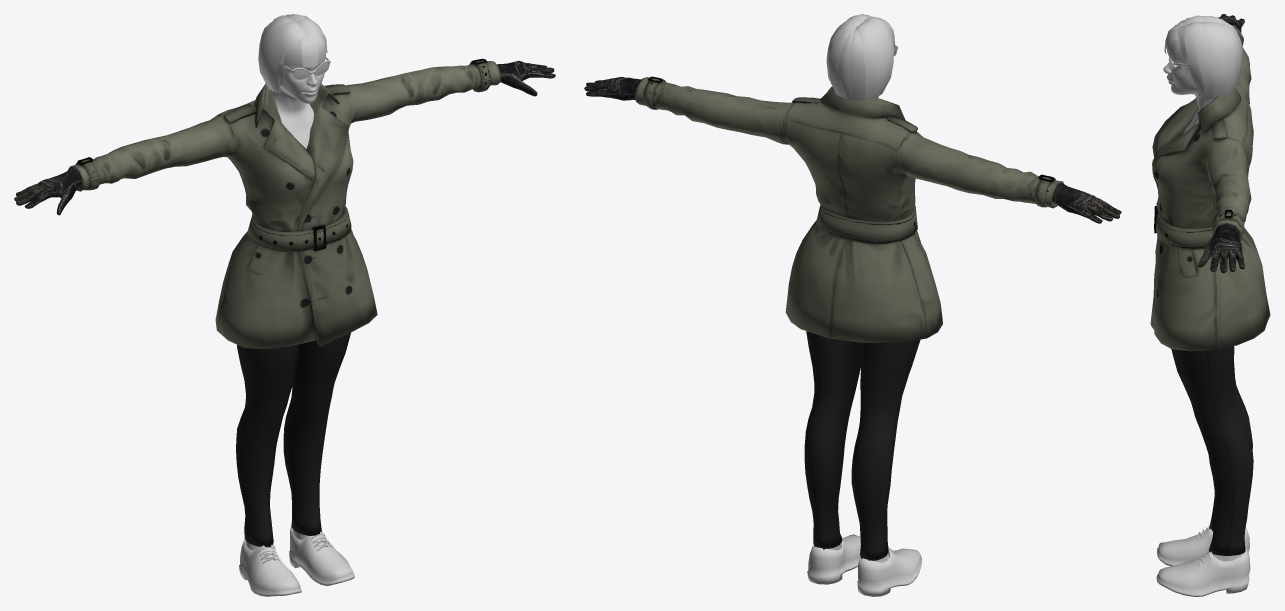
Rendered from Ada.obj.
3 views of the same model, side by side, from view 1: azimuth 30°, elevation 25°; view 2: azimuth 150°, elevation 25°; view 3: azimuth 270°, elevation 25° (orthographic).
Visible parts, largest first — view 1: Tops, Bottoms, Shoes, Hair, Gloves, Body; view 2: Tops, Bottoms, Hair, Shoes, Gloves; view 3: Tops, Bottoms, Hair, Shoes, Gloves, Body.
Part boxes in pixels (box(x1,y1,x2,y2)): Tops: box(67, 58, 500, 349); Bottoms: box(236, 332, 350, 546); Shoes: box(239, 524, 354, 596); Hair: box(258, 14, 327, 93); Gloves: box(14, 60, 555, 215); Body: box(245, 60, 324, 550); Tops: box(635, 76, 1064, 342); Bottoms: box(804, 331, 920, 560); Hair: box(826, 14, 895, 100); Shoes: box(807, 534, 921, 596); Gloves: box(584, 77, 1121, 223); Tops: box(1150, 22, 1270, 351); Bottoms: box(1171, 346, 1253, 555); Hair: box(1164, 15, 1242, 99); Shoes: box(1156, 525, 1250, 596); Gloves: box(1197, 14, 1244, 273); Body: box(1163, 58, 1243, 561).
Bounding box in the file's own units: 179 × 179 × 34.99.
